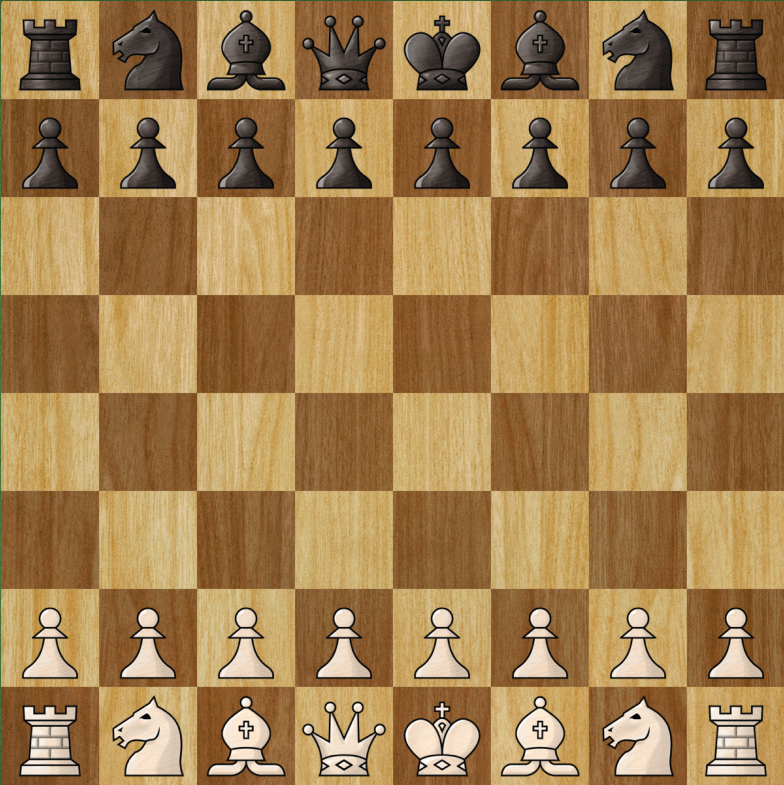white_bishop: (502, 696, 579, 775), (208, 697, 283, 775)
